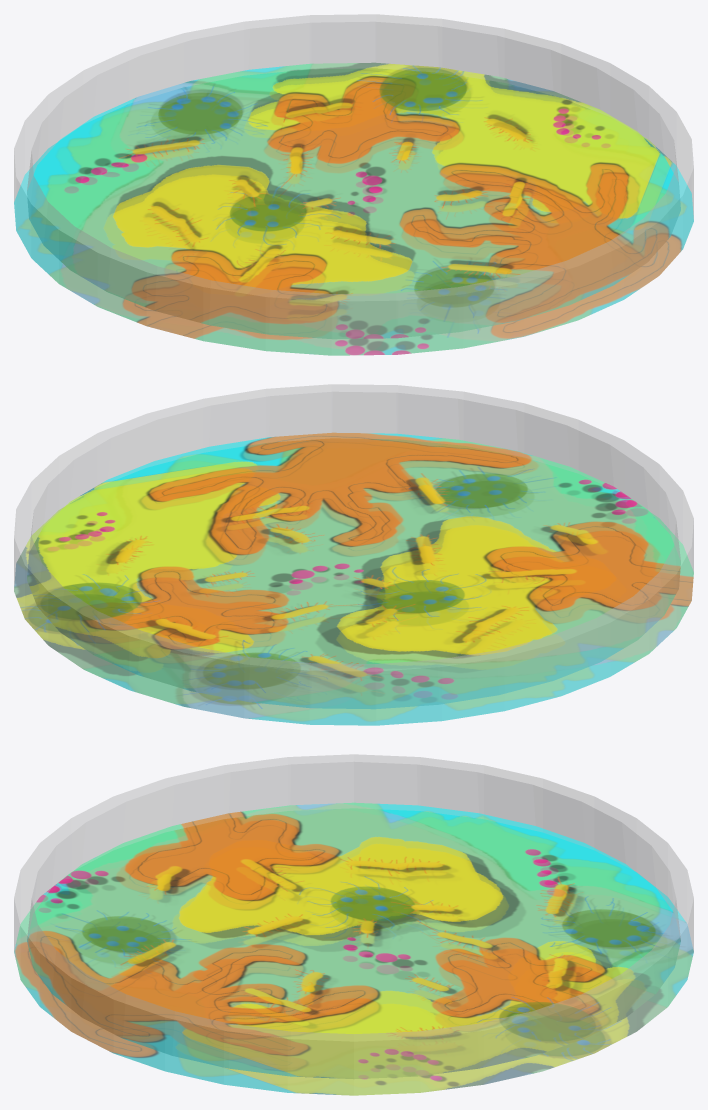
File: petridish_checkpoint.fbx
The picture shows the model from 3 angles, top to bottom: view 1: azimuth 30°, elevation 25°; view 2: azimuth 150°, elevation 25°; view 3: azimuth 270°, elevation 25°; orthographic projection.
Parts seen in each view (by area): view 1: Cylinder; view 2: Cylinder; view 3: Cylinder.
Boxes of the visible parts, x1,y1,x2,y2 form: Cylinder: (14, 14, 693, 355); Cylinder: (14, 384, 693, 725); Cylinder: (14, 754, 693, 1095).
Bounding box in the file's own units: 219 × 19.18 × 219.
